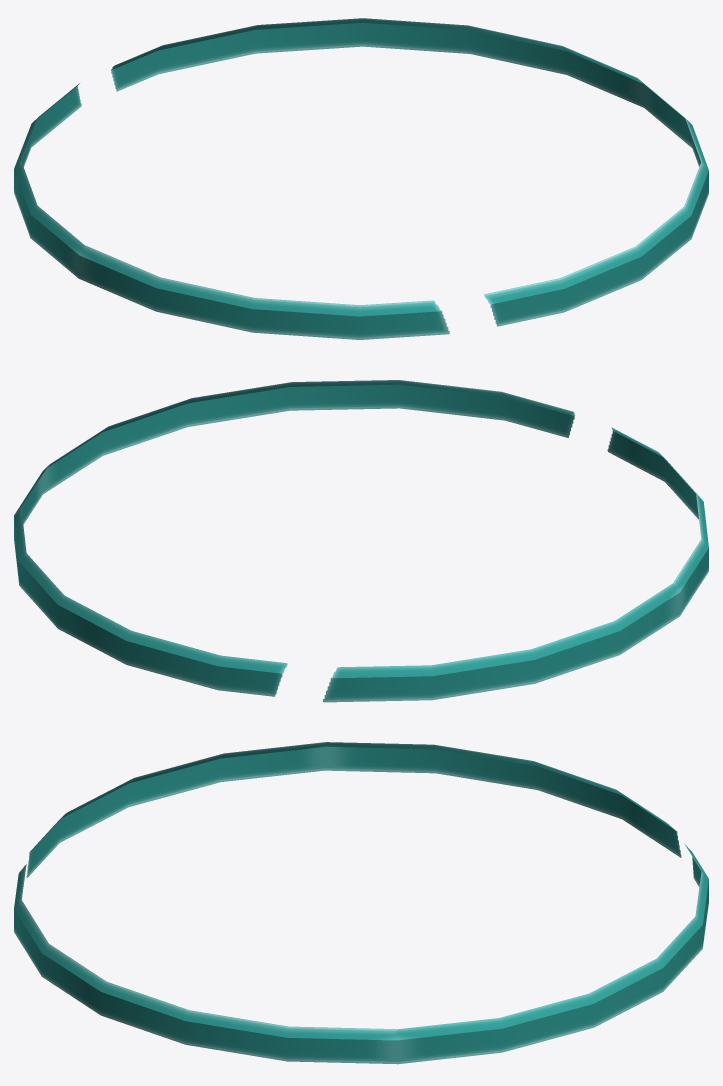
The model's file is Jump_Pad_Ring.fbx.
3 views of the same model, one above another, from view 1: azimuth 30°, elevation 25°; view 2: azimuth 150°, elevation 25°; view 3: azimuth 270°, elevation 25° (orthographic).
Parts seen in each view (by area): view 1: pCylinder1; view 2: pCylinder1; view 3: pCylinder1.
Boxes of the visible parts, x1,y1,x2,y2 form: pCylinder1: [14, 18, 708, 339]; pCylinder1: [14, 380, 708, 702]; pCylinder1: [14, 742, 708, 1064].
Size of the model in its own units: 16.54 by 1.21 by 16.54.
